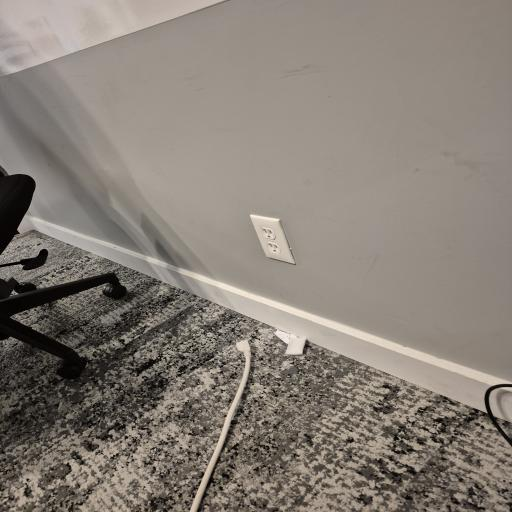outlet: (249, 216, 298, 268)
